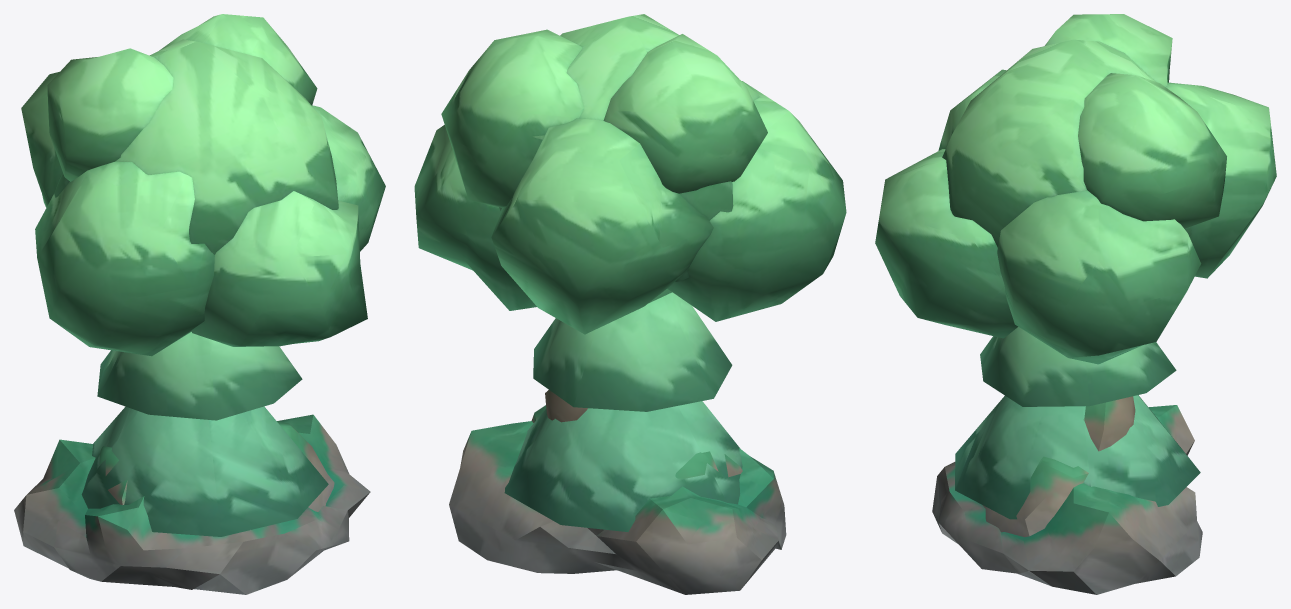
Rendered from verdant_kit.glb.
3 renders of one model, left to right at view 1: azimuth 30°, elevation 25°; view 2: azimuth 150°, elevation 25°; view 3: azimuth 270°, elevation 25°, orthographic. The views are drawn at different scales.
Parts seen in each view (by area): view 1: tree_broad, tree_conifer, rock_b, rock_a; view 2: tree_broad, tree_conifer, rock_b, rock_a, rock_c; view 3: tree_broad, tree_conifer, rock_b, rock_a, rock_c.
Boxes of the visible parts, x1,y1,x2,y2 form: tree_broad: (21,14,385,356); tree_conifer: (81,332,328,536); rock_b: (14,414,370,594); rock_a: (99,421,334,511); tree_broad: (414,14,846,334); tree_conifer: (504,289,742,531); rock_b: (449,421,786,594); rock_a: (531,405,742,570); rock_c: (545,390,587,422); tree_broad: (875,14,1276,364); tree_conifer: (955,327,1200,519); rock_b: (932,405,1202,594); rock_a: (982,456,1088,537); rock_c: (1083,396,1135,451).
Bounding box in the file's own units: 3.2 × 4.3 × 3.19.
1 material, 1 textured.
